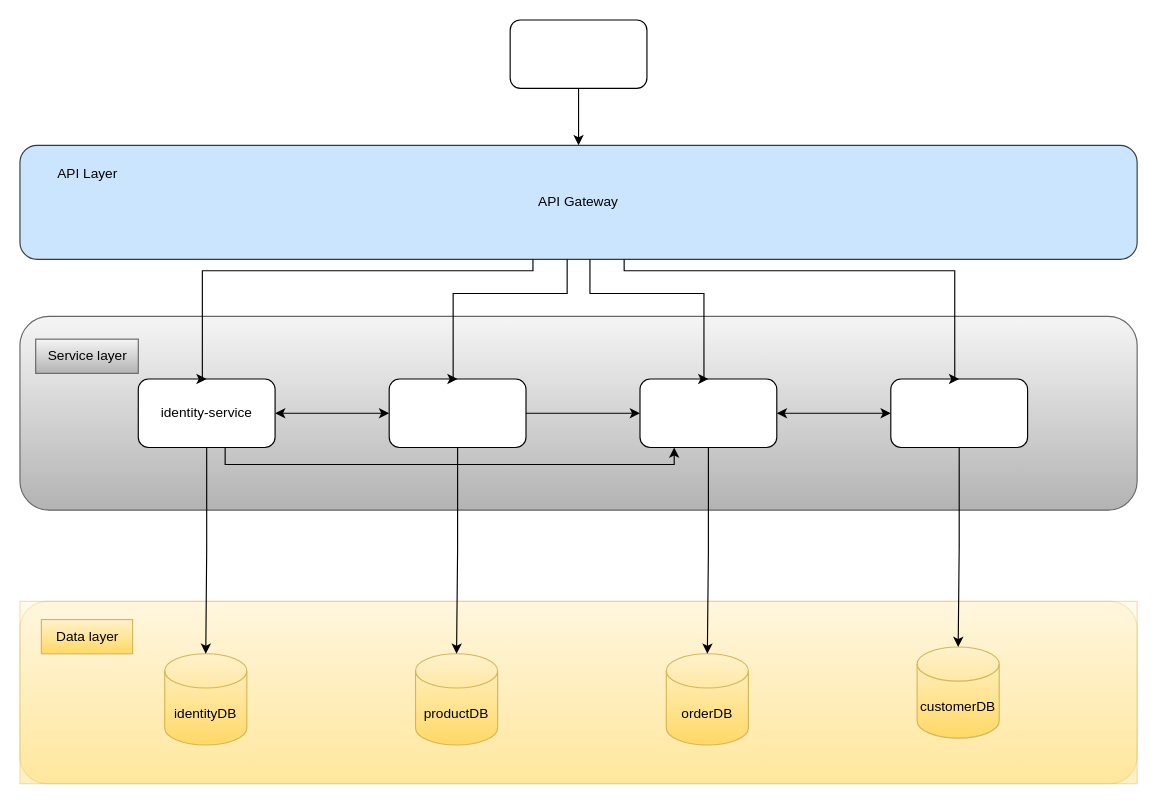
The diagram is 1157 pixels wide and 804 high, and some of its shapes have lost their labels. The shapes that lost their labels are listed below. From the top down, each one's centre as x and y in pixels, then its label:
At point (578, 53): "Client".
At point (457, 412): "product-service".
At point (708, 412): "order-service".
At point (959, 412): "customer-service".
